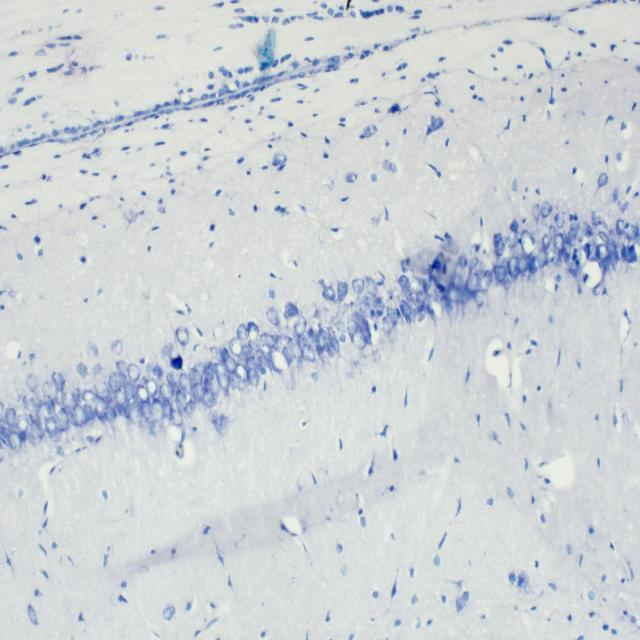neuron: (580, 256, 606, 289), (352, 310, 372, 344), (453, 253, 469, 290), (205, 364, 220, 395), (286, 336, 304, 361), (414, 289, 432, 313), (127, 404, 144, 429), (166, 424, 186, 444), (520, 230, 536, 255), (29, 423, 44, 447), (73, 404, 88, 428), (94, 381, 111, 401), (492, 232, 505, 258), (64, 406, 80, 427), (506, 256, 520, 279), (244, 355, 264, 371), (22, 392, 37, 413), (179, 373, 194, 394), (217, 372, 232, 393), (298, 329, 313, 350), (480, 270, 493, 294), (365, 276, 379, 298), (567, 218, 581, 240), (228, 373, 244, 392), (300, 343, 316, 362), (351, 331, 367, 350), (61, 391, 76, 411), (107, 372, 122, 392), (152, 398, 164, 423), (222, 354, 237, 374), (359, 300, 374, 320), (492, 263, 507, 283), (56, 407, 69, 430), (144, 378, 158, 399), (42, 382, 59, 399), (468, 270, 479, 296), (114, 387, 128, 407), (176, 325, 190, 345), (446, 284, 460, 304), (140, 401, 152, 424), (284, 301, 299, 319), (8, 432, 22, 451), (52, 372, 66, 391), (94, 400, 108, 419), (123, 376, 137, 395), (136, 384, 150, 403), (229, 337, 243, 356), (591, 209, 605, 228), (176, 388, 187, 412), (202, 389, 215, 409), (235, 362, 248, 382), (247, 367, 260, 387), (386, 305, 399, 325), (438, 296, 454, 312), (126, 364, 141, 381), (169, 409, 183, 427), (295, 316, 307, 337), (567, 264, 581, 282), (275, 334, 288, 353), (608, 243, 619, 265), (4, 407, 16, 427), (45, 398, 57, 418), (236, 324, 248, 344), (328, 333, 340, 353), (321, 285, 336, 301), (400, 300, 412, 320), (536, 246, 546, 270), (45, 416, 58, 434), (25, 374, 38, 392), (372, 295, 385, 313), (597, 244, 610, 262), (123, 398, 134, 419), (84, 404, 96, 423), (188, 368, 200, 387), (266, 306, 278, 325), (380, 317, 392, 336), (581, 219, 593, 238), (406, 278, 421, 293), (260, 332, 274, 348), (626, 225, 640, 241), (596, 172, 609, 189), (347, 318, 358, 338), (541, 200, 553, 218), (16, 417, 30, 432), (561, 236, 571, 257), (160, 382, 171, 401), (189, 385, 200, 404), (261, 343, 272, 362), (0, 425, 13, 441), (85, 341, 98, 357), (111, 339, 123, 356), (308, 329, 320, 346), (474, 290, 486, 307), (608, 228, 620, 245), (554, 232, 564, 252), (105, 404, 116, 422), (247, 321, 258, 339), (554, 211, 565, 229), (596, 231, 610, 245), (158, 416, 171, 431), (167, 372, 180, 387), (76, 362, 88, 378), (117, 359, 127, 378), (338, 282, 348, 301), (518, 256, 528, 275), (184, 399, 195, 416), (161, 345, 172, 362), (152, 365, 164, 380), (352, 277, 364, 292), (404, 288, 416, 303), (528, 256, 538, 274), (616, 218, 626, 236), (508, 217, 519, 233), (618, 198, 629, 214), (220, 346, 230, 363), (82, 389, 95, 402), (398, 274, 410, 288), (239, 345, 254, 356), (72, 388, 81, 406), (319, 326, 328, 344), (322, 338, 332, 353), (469, 256, 479, 271), (386, 288, 396, 303), (13, 403, 25, 415), (248, 339, 260, 351), (532, 204, 540, 221), (541, 235, 549, 252), (549, 225, 558, 239), (592, 284, 602, 296)
